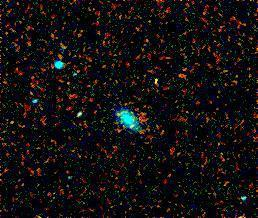star: (170, 59, 200, 89)
